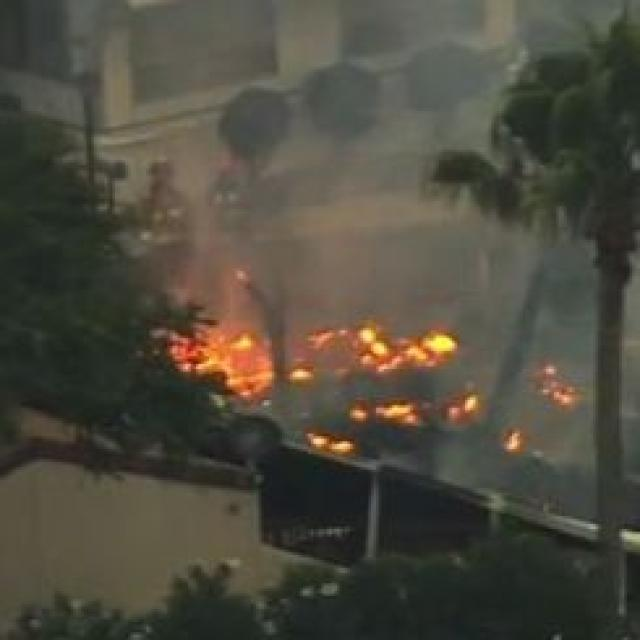Fire: (179, 314, 563, 488)
